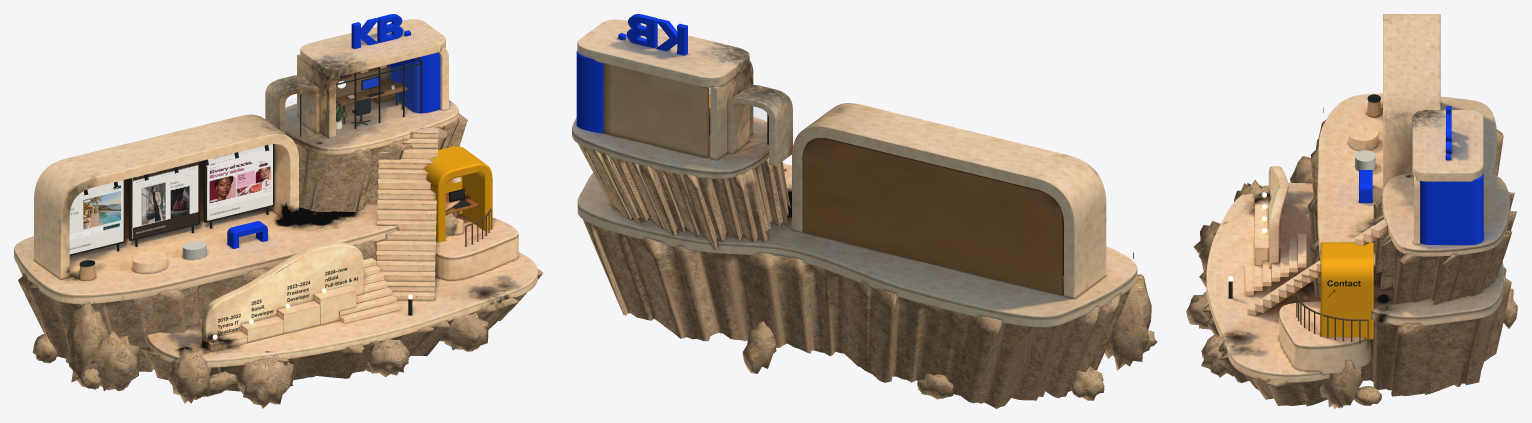
File: architecture-baked.glb
3 views of the same model, side by side, from view 1: azimuth 30°, elevation 25°; view 2: azimuth 150°, elevation 25°; view 3: azimuth 270°, elevation 25° (orthographic). The views are drawn at different scales.
Visible parts, largest first — view 1: Mesh_2, Mesh_0, Mesh_12, Mesh_3, Mesh_42, Mesh_34, Mesh_22, Mesh_35, Mesh_1, Mesh_7, Mesh_8, Mesh_51 (+9 smaller); view 2: Mesh_0, Mesh_5, Mesh_2, Mesh_12, Mesh_22, Mesh_19, Mesh_1, Mesh_3, Mesh_23; view 3: Mesh_2, Mesh_0, Mesh_12, Mesh_22, Mesh_34, Mesh_51, Mesh_3, Mesh_23, Mesh_1, Mesh_35, Mesh_42, Mesh_43 (+3 smaller).
Boxes of the visible parts, x1,y1,x2,y2 form: Mesh_2: (14, 99, 537, 361); Mesh_0: (17, 113, 543, 391); Mesh_12: (34, 114, 298, 279); Mesh_3: (32, 302, 488, 408); Mesh_42: (201, 242, 363, 351); Mesh_34: (339, 132, 518, 323); Mesh_22: (265, 19, 448, 138); Mesh_35: (376, 128, 518, 296); Mesh_1: (14, 113, 537, 367); Mesh_7: (133, 162, 198, 238); Mesh_8: (207, 144, 272, 220); Mesh_51: (424, 146, 492, 242); Mesh_0: (578, 143, 1130, 408); Mesh_5: (802, 138, 1063, 295); Mesh_2: (572, 106, 1137, 319); Mesh_12: (792, 103, 1106, 298); Mesh_22: (577, 19, 792, 166); Mesh_19: (603, 63, 709, 158); Mesh_1: (572, 131, 1137, 327); Mesh_3: (742, 274, 1157, 400); Mesh_23: (576, 14, 687, 132); Mesh_2: (1206, 93, 1509, 376); Mesh_0: (1199, 129, 1516, 406); Mesh_12: (1348, 14, 1440, 191); Mesh_22: (1412, 110, 1483, 244); Mesh_34: (1245, 226, 1387, 373); Mesh_51: (1320, 242, 1373, 339); Mesh_3: (1186, 120, 1517, 408); Mesh_23: (1420, 106, 1483, 244); Mesh_1: (1206, 143, 1509, 382); Mesh_35: (1247, 218, 1387, 347); Mesh_42: (1255, 166, 1289, 283); Mesh_43: (1254, 193, 1270, 248).
Bounding box in the file's own units: 18.24 × 9.92 × 10.98.
Materials: 18 (11 with a texture image).
